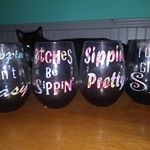cups: (30, 37, 80, 112), (79, 39, 126, 112), (125, 38, 150, 107)
